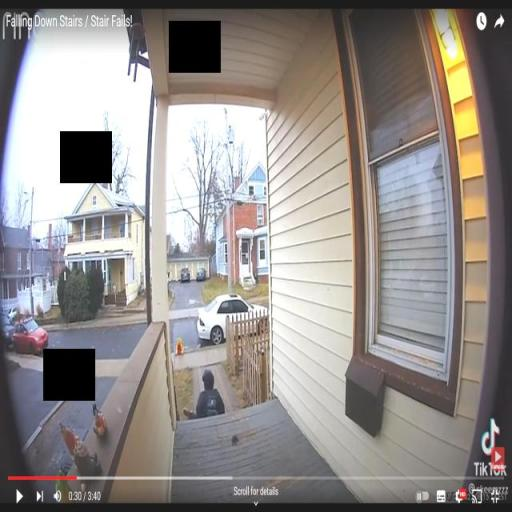Fall: (180, 363, 228, 424)
